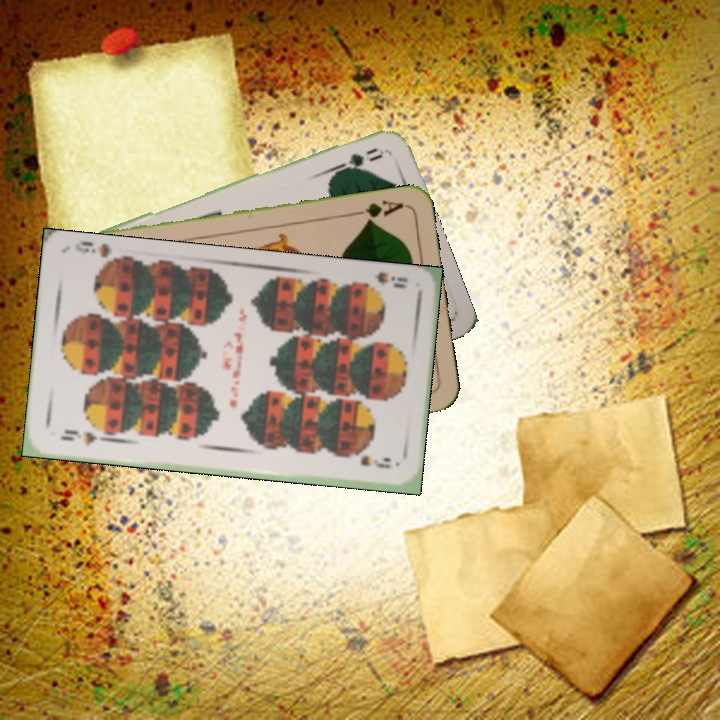GA: (348, 195, 406, 225)
GO: (328, 143, 386, 177)
S9: (355, 268, 410, 294), (55, 425, 108, 449)
